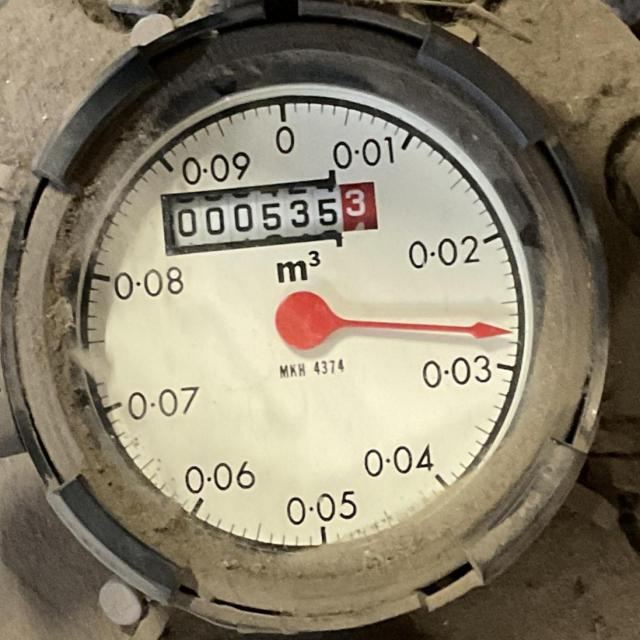gaz_meter: (70, 83, 537, 550)
indication: (163, 176, 383, 257)
